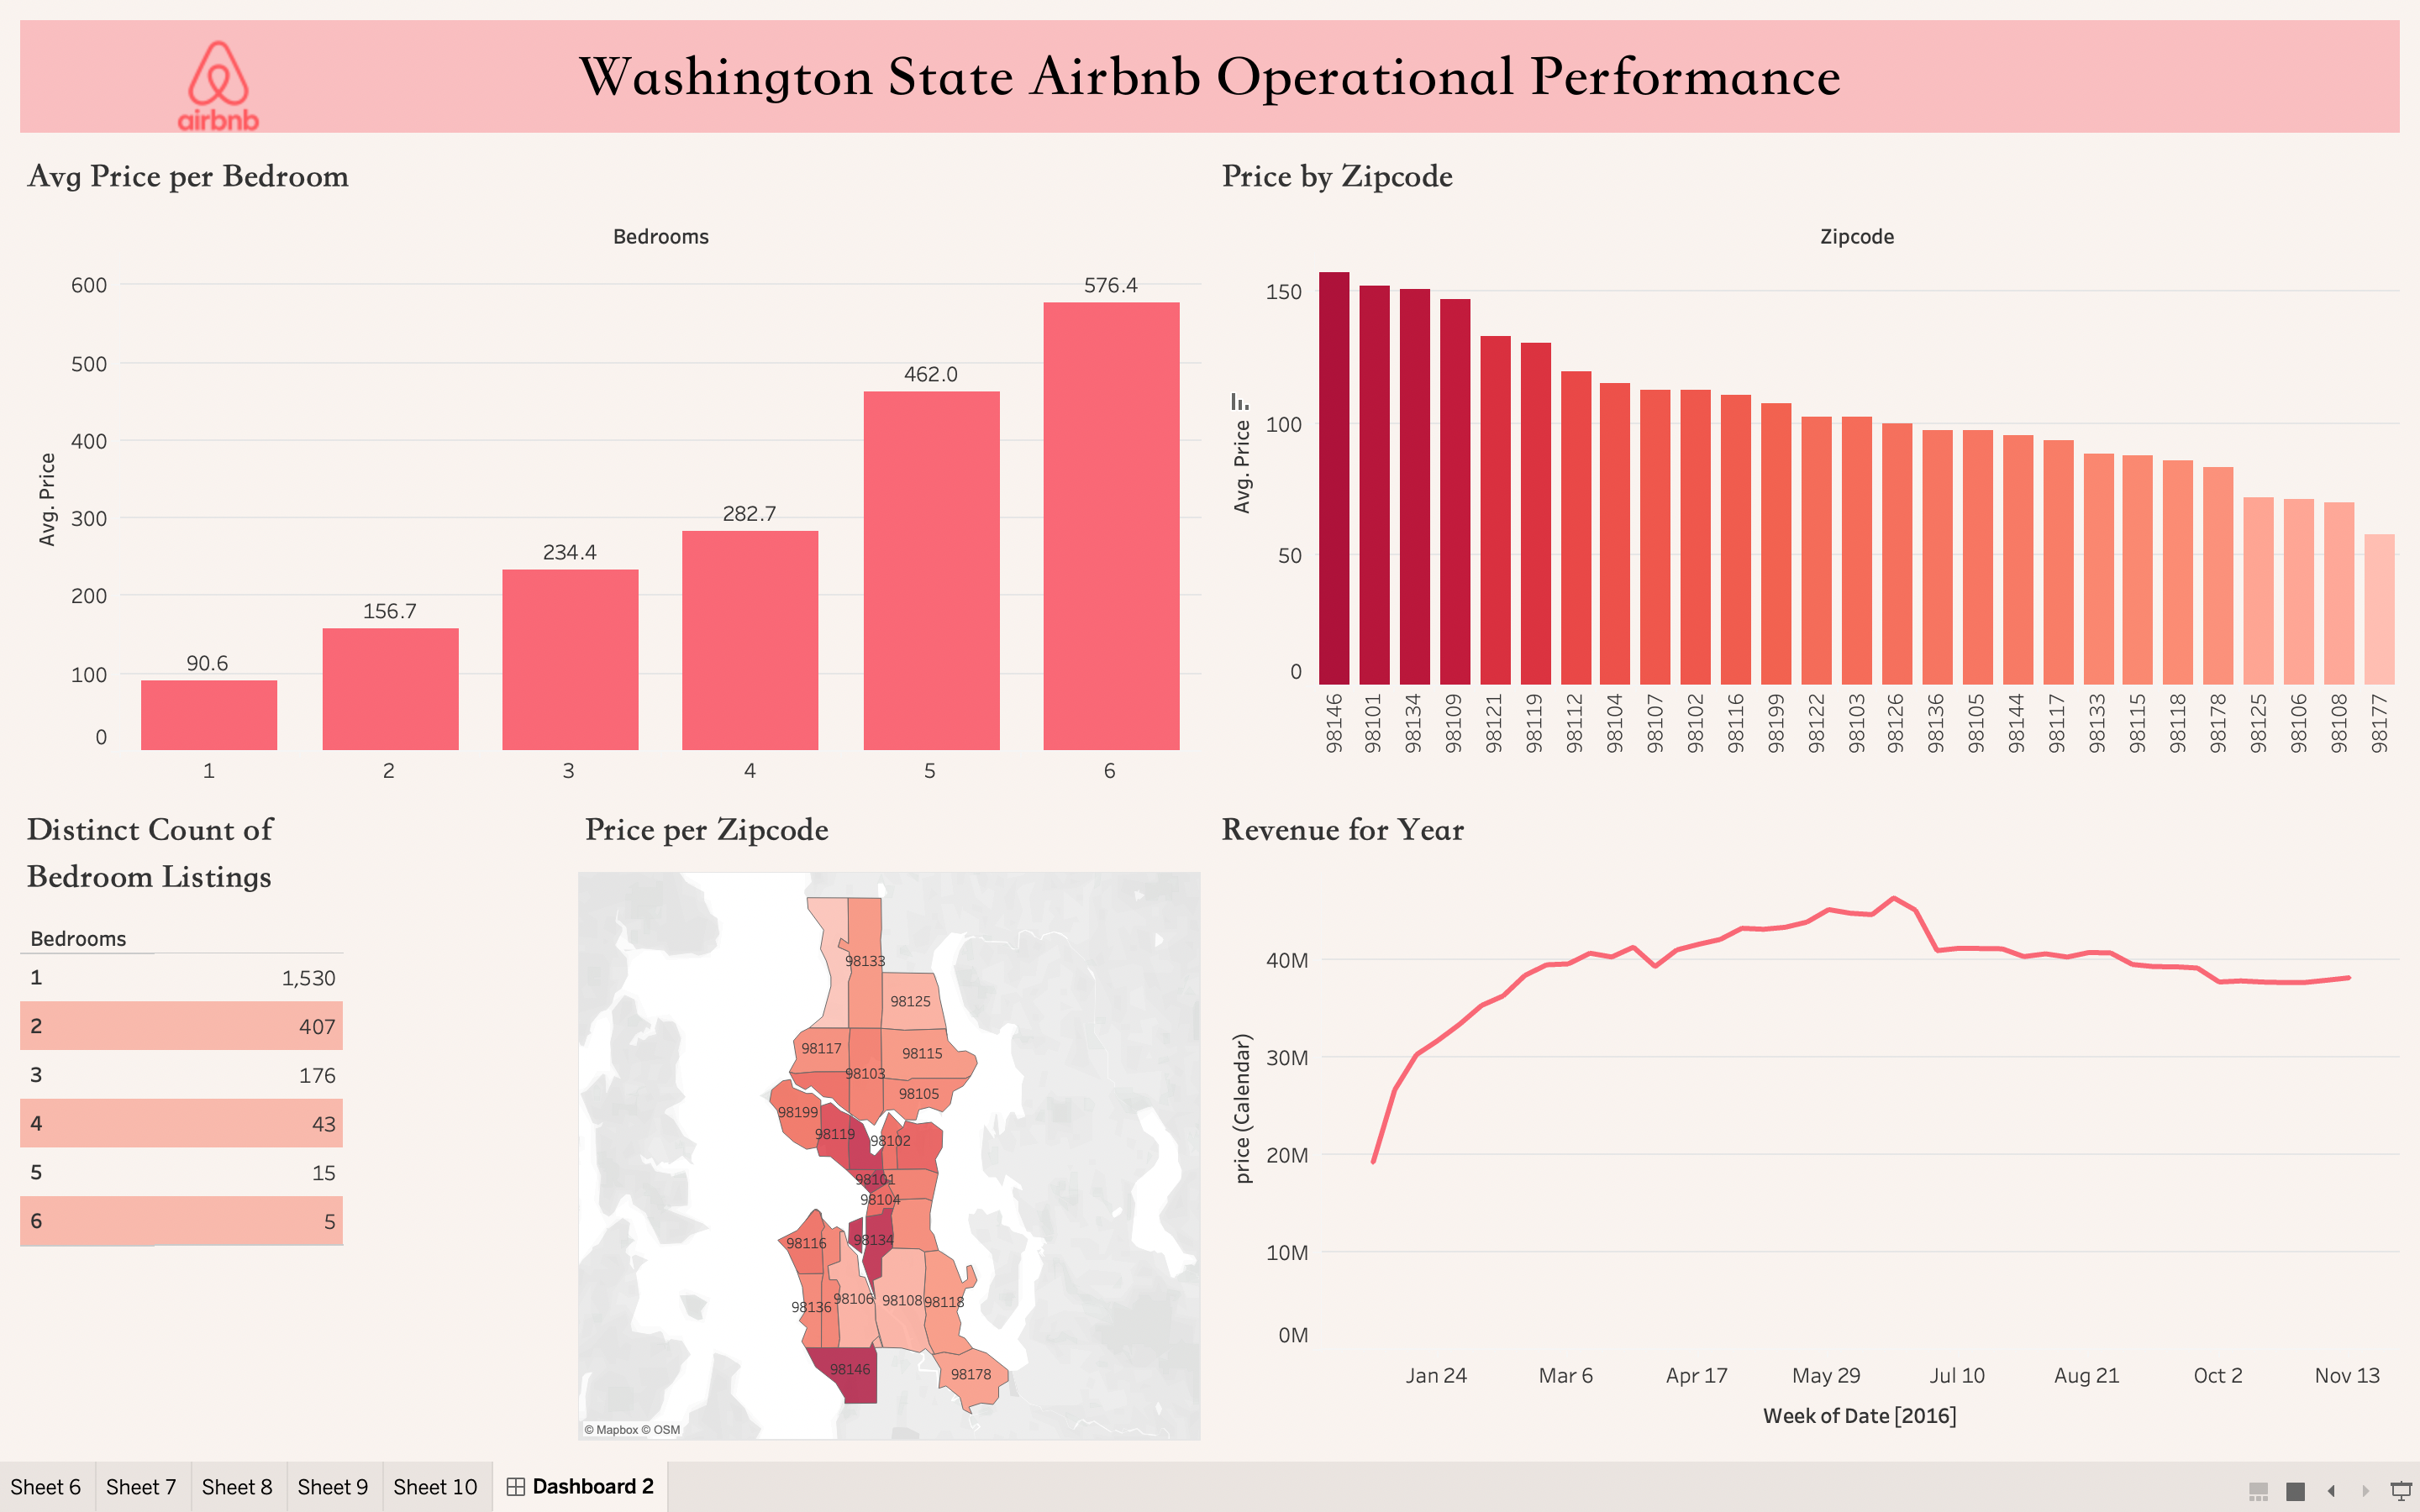

The dashboard page shown, as its layout file describes it:
{"tool":"tableau","page":{"name":"Dashboard 2","canvas":[1000,1000],"units":"permille","ordinal":0},"visuals":[{"type":"image","param":"/Users/gmon870512/Downloads/airbnb-logo-0.png","box":[61.3,9.9,83.7,96.5]},{"type":"title","box":[6.5,11.7,987,109.5]},{"type":"worksheet","title":"Sheet 9","mark":"Automatic","rows":["price"],"cols":["bedrooms"],"box":[6.5,121.2,493.1,433.6]},{"type":"worksheet","title":"Sheet 6","mark":"Automatic","rows":["price"],"cols":["zipcode"],"box":[499.6,121.2,493.9,433.6]},{"type":"worksheet","title":"Sheet 10","mark":"Automatic","rows":["bedrooms"],"box":[6.5,554.7,230.3,433.6]},{"type":"worksheet","title":"Sheet 7","mark":"Multipolygon","box":[236.8,554.7,262.7,433.6]},{"type":"worksheet","title":"Sheet 8","mark":"Automatic","rows":["price (Calendar)"],"cols":["date"],"box":[499.6,554.7,493.9,433.6]}]}

Visuals, with their boxes on the dashboard's canvas, which has no fixed pixel size, in thousandths of its width and height (x1, y1, x2, y2). These are canvas units, not pixel positions in the 2420x1512 screenshot, which may show the page scaled, cropped or inside an application window:
image: region(61, 10, 145, 106)
title: region(6, 12, 994, 121)
"Sheet 9" worksheet: region(6, 121, 500, 555)
"Sheet 6" worksheet: region(500, 121, 994, 555)
"Sheet 10" worksheet: region(6, 555, 237, 988)
"Sheet 7" worksheet (Multipolygon marks): region(237, 555, 500, 988)
"Sheet 8" worksheet: region(500, 555, 994, 988)
